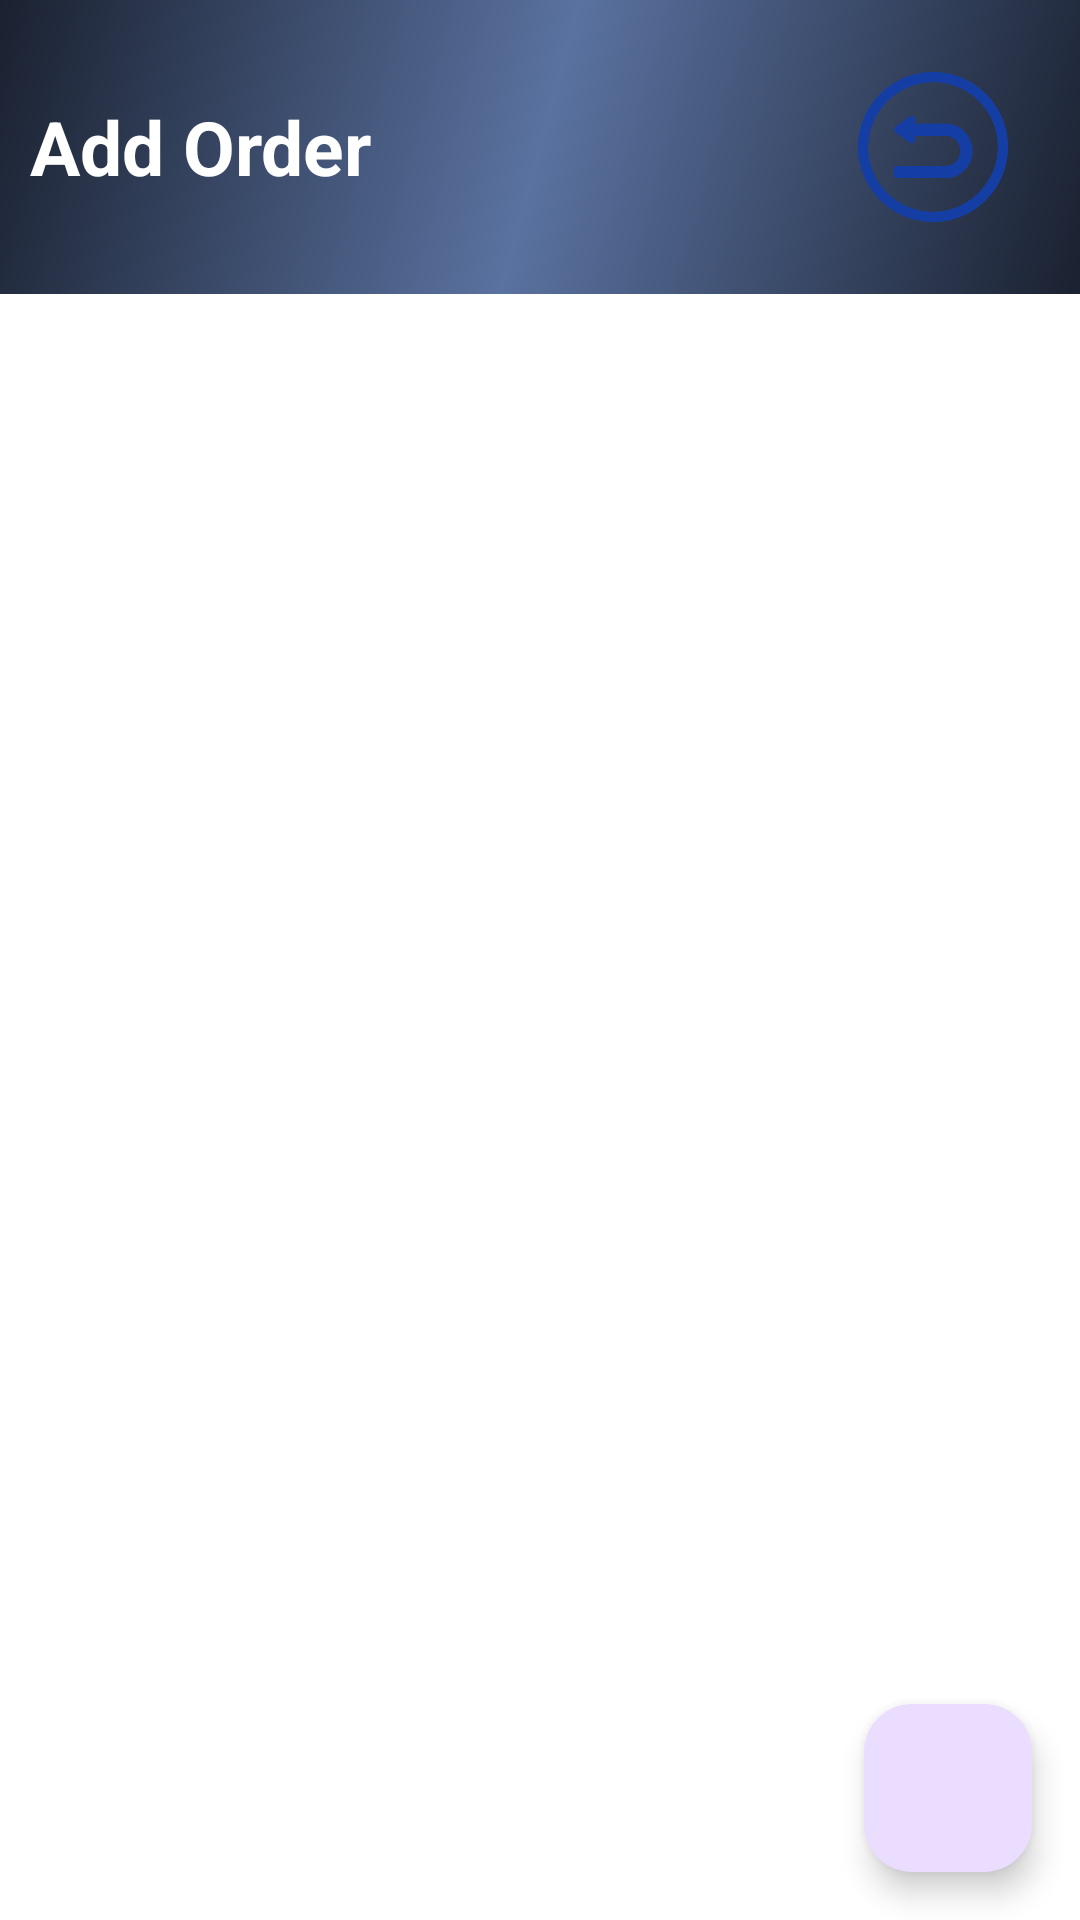

Icon click points for this 1080w x 1920h phone screenshot, format [x,y]:
arrow back: [933,147]
